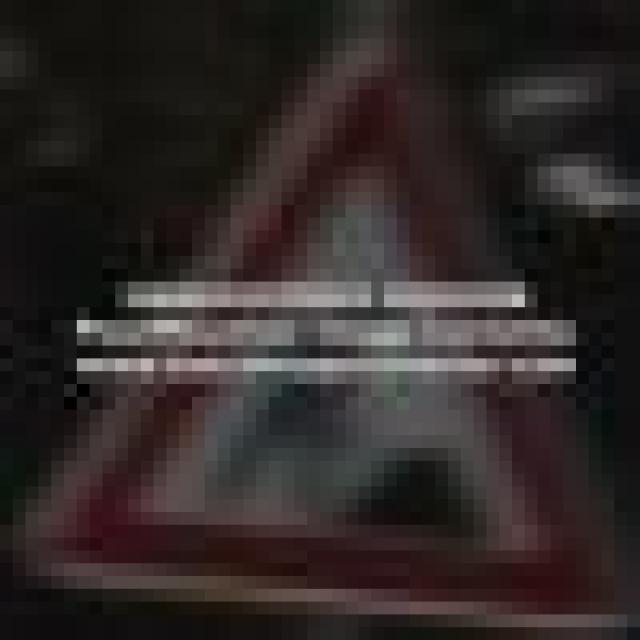MEN_AT_WORK: (0, 13, 627, 627)
